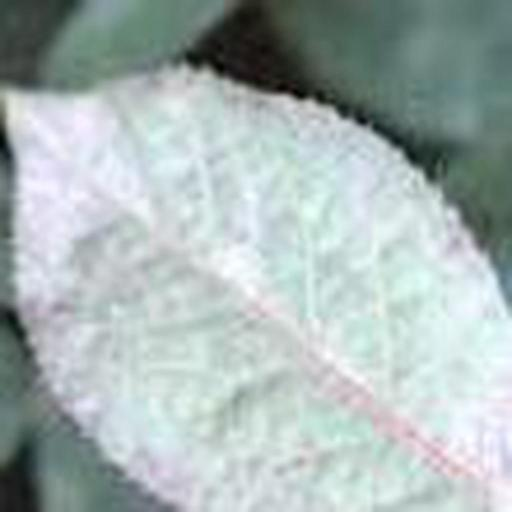powdery_mildew: (4, 66, 512, 512)
